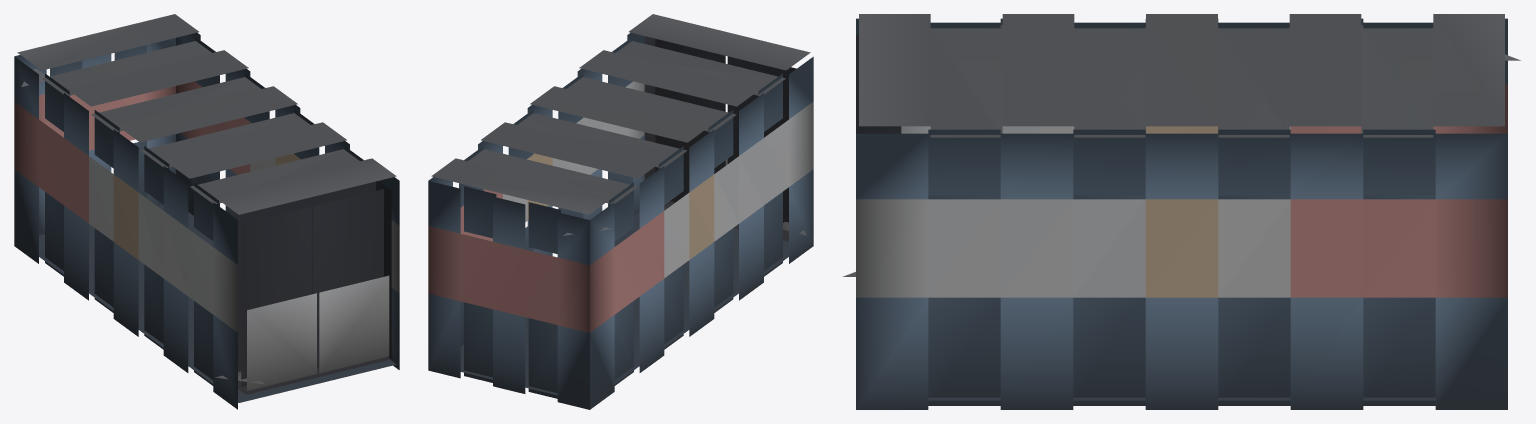
3 renders of one model, left to right at view 1: azimuth 30°, elevation 25°; view 2: azimuth 150°, elevation 25°; view 3: azimuth 270°, elevation 25°, orthographic. The views are drawn at different scales.
Visible parts, largest first — view 1: box; view 2: box; view 3: box.
Part boxes in pixels (x1,y1,x2,y2): box: (14, 14, 399, 409); box: (428, 14, 813, 409); box: (842, 14, 1520, 409).
Size of the model in its own units: 2.27 by 2.48 by 5.4.
